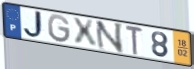8: (151, 31, 171, 59)
G: (46, 13, 72, 45)
J: (22, 10, 46, 40)
N: (94, 20, 125, 55)
T: (124, 24, 145, 57)
X: (71, 17, 99, 49)
